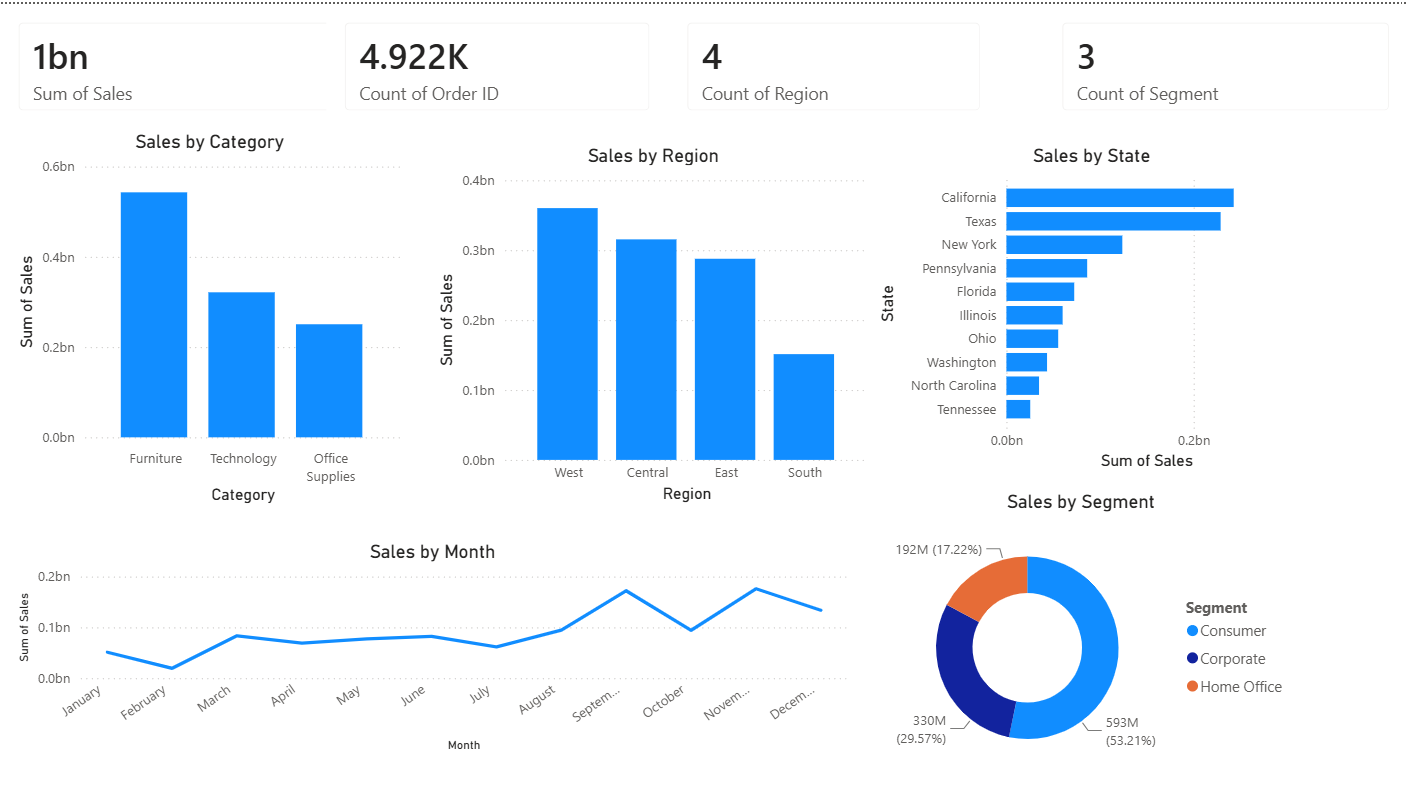

The dashboard page shown, as its layout file describes it:
{"tool":"powerbi","page":{"name":"Page 1","canvas":[1280,720],"ordinal":0},"visuals":[{"type":"clusteredColumnChart","title":"Sales by Category","fields":{"Category":["Cleaned_Retail_Sales.Category"],"Y":["Sum(Cleaned_Retail_Sales.Sales)"]},"box":[11.7,114.3,358.4,344.2],"z":0},{"type":"clusteredColumnChart","title":" Sales by Region","fields":{"Category":["Cleaned_Retail_Sales.Region"],"Y":["Sum(Cleaned_Retail_Sales.Sales)"]},"box":[393.5,127.3,401.3,331.2],"z":1000},{"type":"lineChart","title":"Sales by Month","fields":{"Category":["Cleaned_Retail_Sales.Order Date.Variation.Date Hierarchy.Year","Cleaned_Retail_Sales.Order Date.Variation.Date Hierarchy.Quarter","Cleaned_Retail_Sales.Order Date.Variation.Date Hierarchy.Month","Cleaned_Retail_Sales.Order Date.Variation.Date Hierarchy.Day"],"Y":["Sum(Cleaned_Retail_Sales.Sales)"]},"box":[11.7,487,763.6,197.4],"z":2000},{"type":"donutChart","title":" Sales by Segment","fields":{"Y":["Sum(Cleaned_Retail_Sales.Sales)"],"Category":["Cleaned_Retail_Sales.Segment"]},"box":[785.7,441.6,394.8,267.5],"z":3000},{"type":"clusteredBarChart","title":" Sales by State","fields":{"Category":["Cleaned_Retail_Sales.State"],"Y":["Sum(Cleaned_Retail_Sales.Sales)"]},"box":[794.8,127.3,396.1,301.3],"z":4000},{"type":"cardVisual","fields":{"Data":["Sum(Cleaned_Retail_Sales.Sales)"]},"box":[0,0,354.5,114.3],"z":5000},{"type":"cardVisual","fields":{"Data":["Count(Cleaned_Retail_Sales.Order ID)"]},"box":[296.1,0,311.7,114.3],"z":6000},{"type":"cardVisual","fields":{"Data":["Count(Cleaned_Retail_Sales.Region)"]},"box":[607.8,0,300,114.3],"z":7000},{"type":"cardVisual","fields":{"Data":["Count(Cleaned_Retail_Sales.Segment)"]},"box":[949.4,0,331.2,114.3],"z":8000}]}

Visuals, with their boxes in screenshot pixels (x1, y1, x2, y2), scaled from the page's 1280x720 canvas onto the 1407x792 screenshot:
"Sales by Category" clusteredColumnChart: [13,126,407,504]
" Sales by Region" clusteredColumnChart: [433,140,874,504]
"Sales by Month" lineChart: [13,536,852,753]
" Sales by Segment" donutChart: [864,486,1298,780]
" Sales by State" clusteredBarChart: [874,140,1309,471]
cardVisual - Sum(Cleaned_Retail_Sales.Sales): [0,0,390,126]
cardVisual - Count(Cleaned_Retail_Sales.Order ID): [325,0,668,126]
cardVisual - Count(Cleaned_Retail_Sales.Region): [668,0,998,126]
cardVisual - Count(Cleaned_Retail_Sales.Segment): [1044,0,1406,126]
